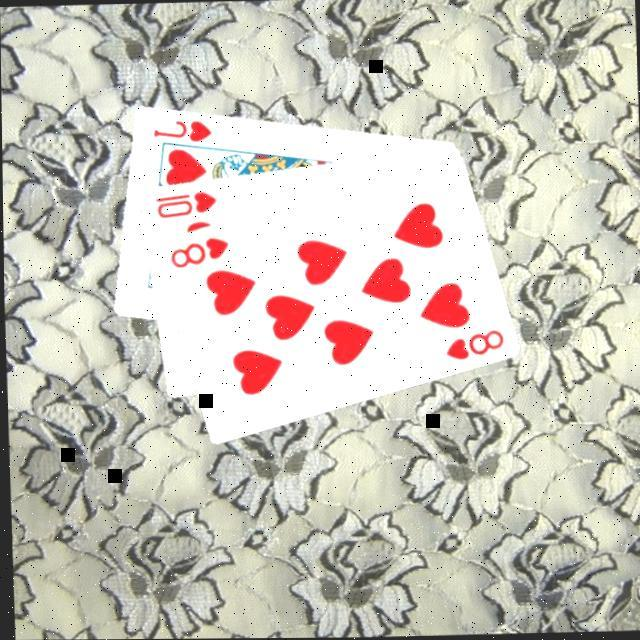10H: (152, 188, 220, 221)
8H: (166, 234, 234, 272), (442, 328, 506, 364)
JH: (150, 116, 216, 146)
